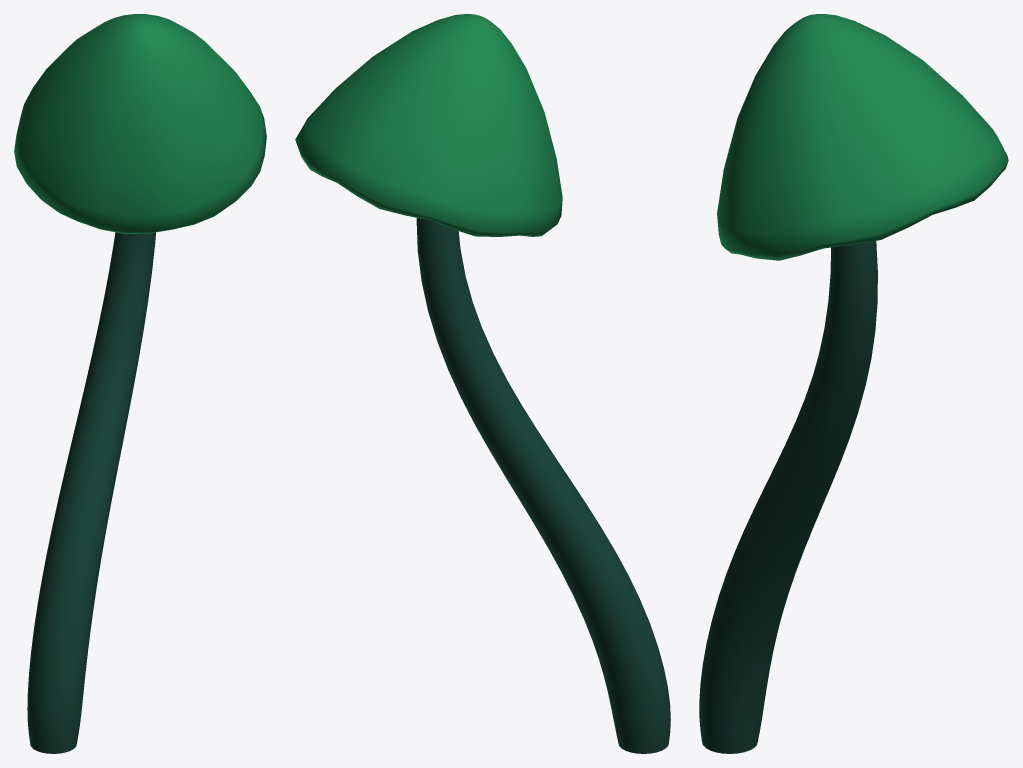
The model's file is GreenMush_B.fbx.
The picture shows the model from 3 angles, left to right: view 1: azimuth 30°, elevation 25°; view 2: azimuth 150°, elevation 25°; view 3: azimuth 270°, elevation 25°; orthographic projection. The views are drawn at different scales.
Visible parts, largest first — view 1: GreenMush_B; view 2: GreenMush_B; view 3: GreenMush_B.
Part boxes in pixels (x1,y1,x2,y2): GreenMush_B: (14, 14, 266, 753); GreenMush_B: (295, 14, 670, 753); GreenMush_B: (699, 14, 1008, 753).
Size of the model in its own units: 156 by 128 by 365.
